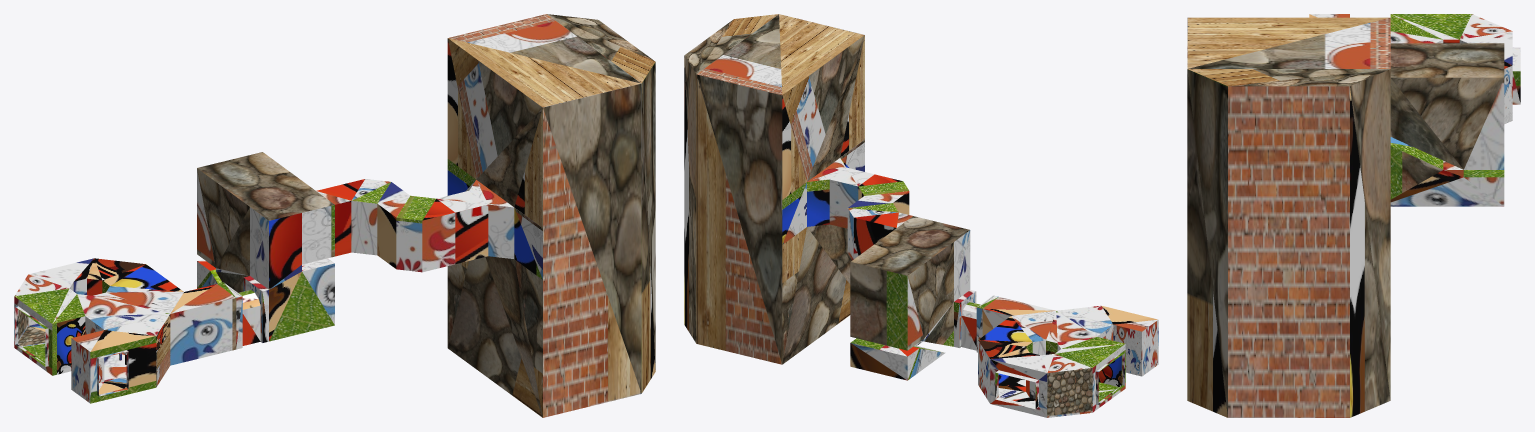
The model's file is level.obj.
3 renders of one model, left to right at view 1: azimuth 30°, elevation 25°; view 2: azimuth 150°, elevation 25°; view 3: azimuth 270°, elevation 25°, orthographic. The views are drawn at different scales.
Visible parts, largest first — view 1: Plane_Plane.002; view 2: Plane_Plane.002; view 3: Plane_Plane.002.
Boxes of the visible parts, x1=… form: Plane_Plane.002: x1=14, y1=14, x2=655, y2=417; Plane_Plane.002: x1=684, y1=14, x2=1158, y2=417; Plane_Plane.002: x1=1187, y1=14, x2=1520, y2=417.
Size of the model in its own units: 16.1 by 9 by 8.2.
